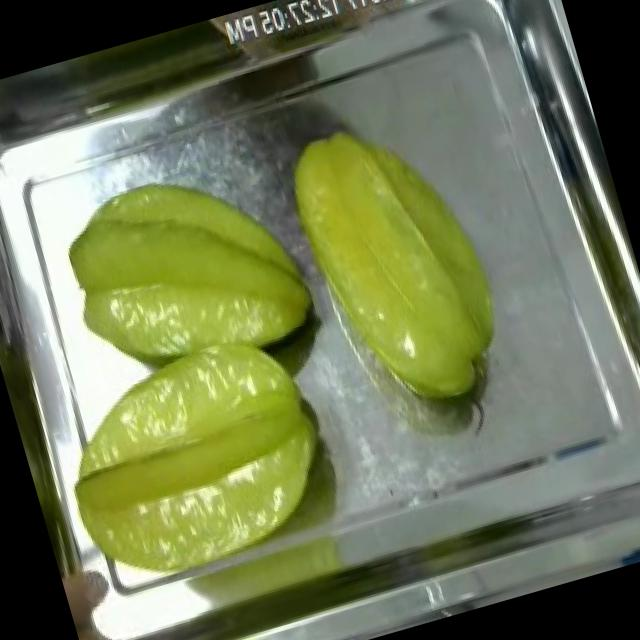fruit: (33, 310, 363, 610), (264, 90, 536, 442), (41, 138, 332, 402)
